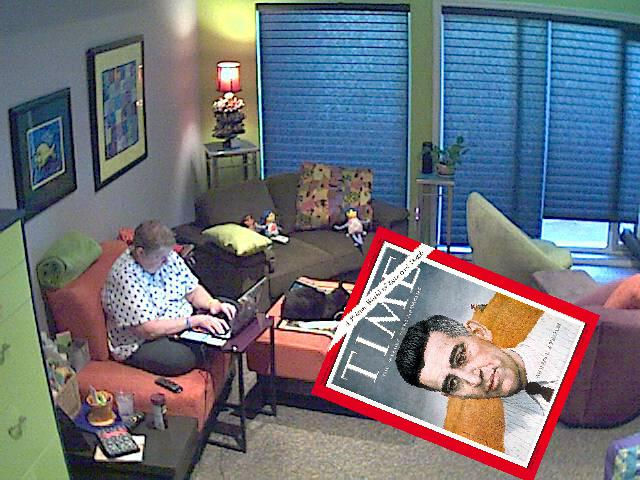times: (307, 226, 601, 480)
